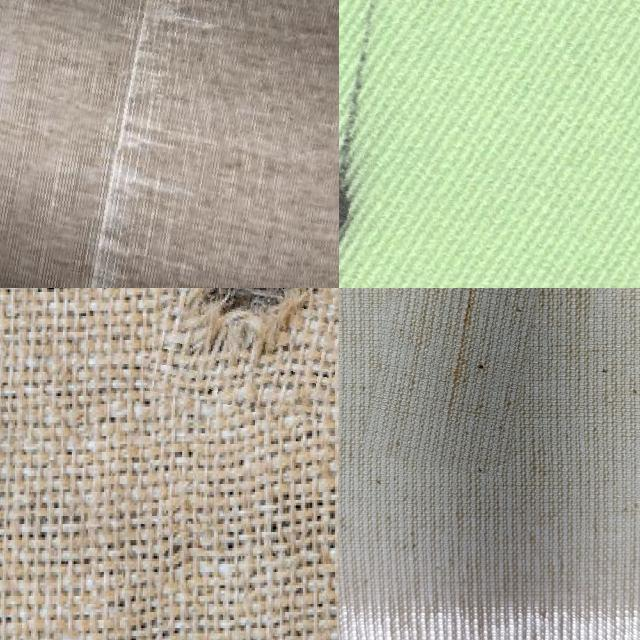other: (157, 288, 339, 414)
stains: (339, 0, 640, 288), (368, 288, 535, 473)
